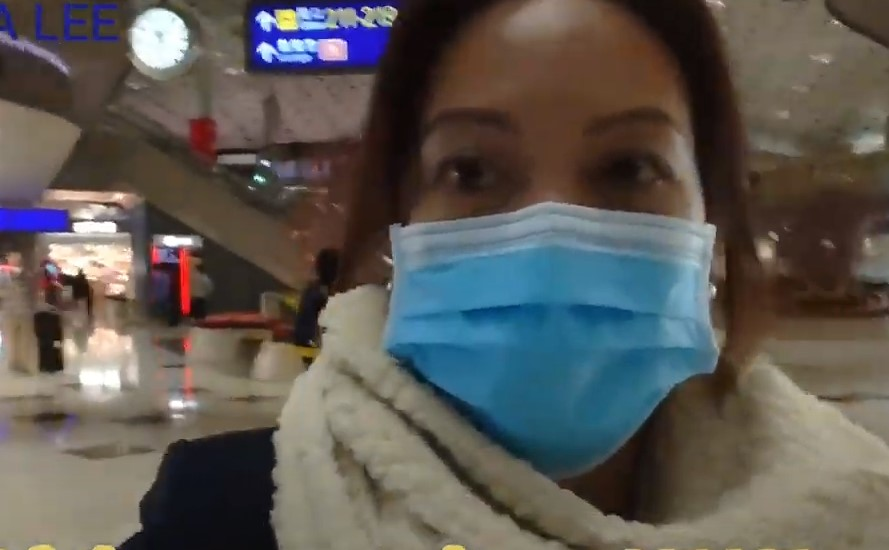face_with_mask: (375, 4, 742, 490)
